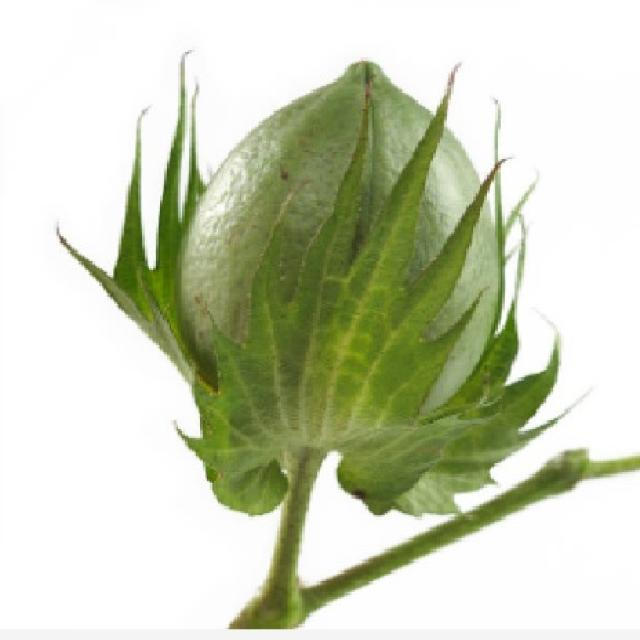Early Boll: (109, 62, 556, 514)
